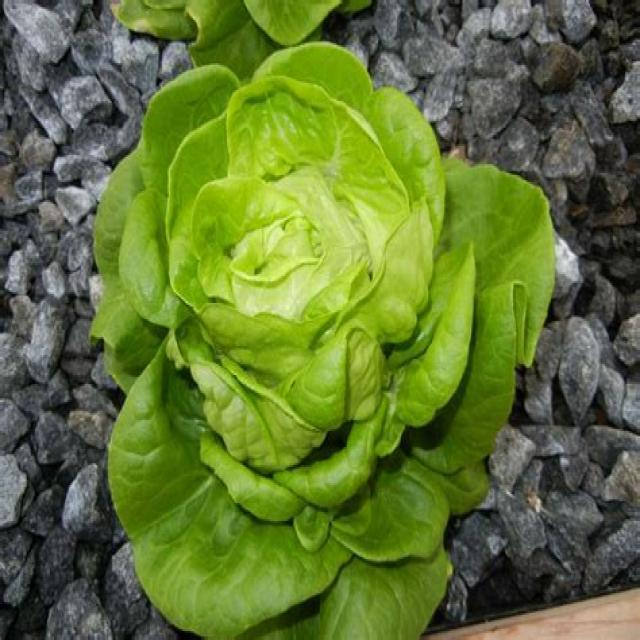Lettuce: (101, 37, 551, 640)
